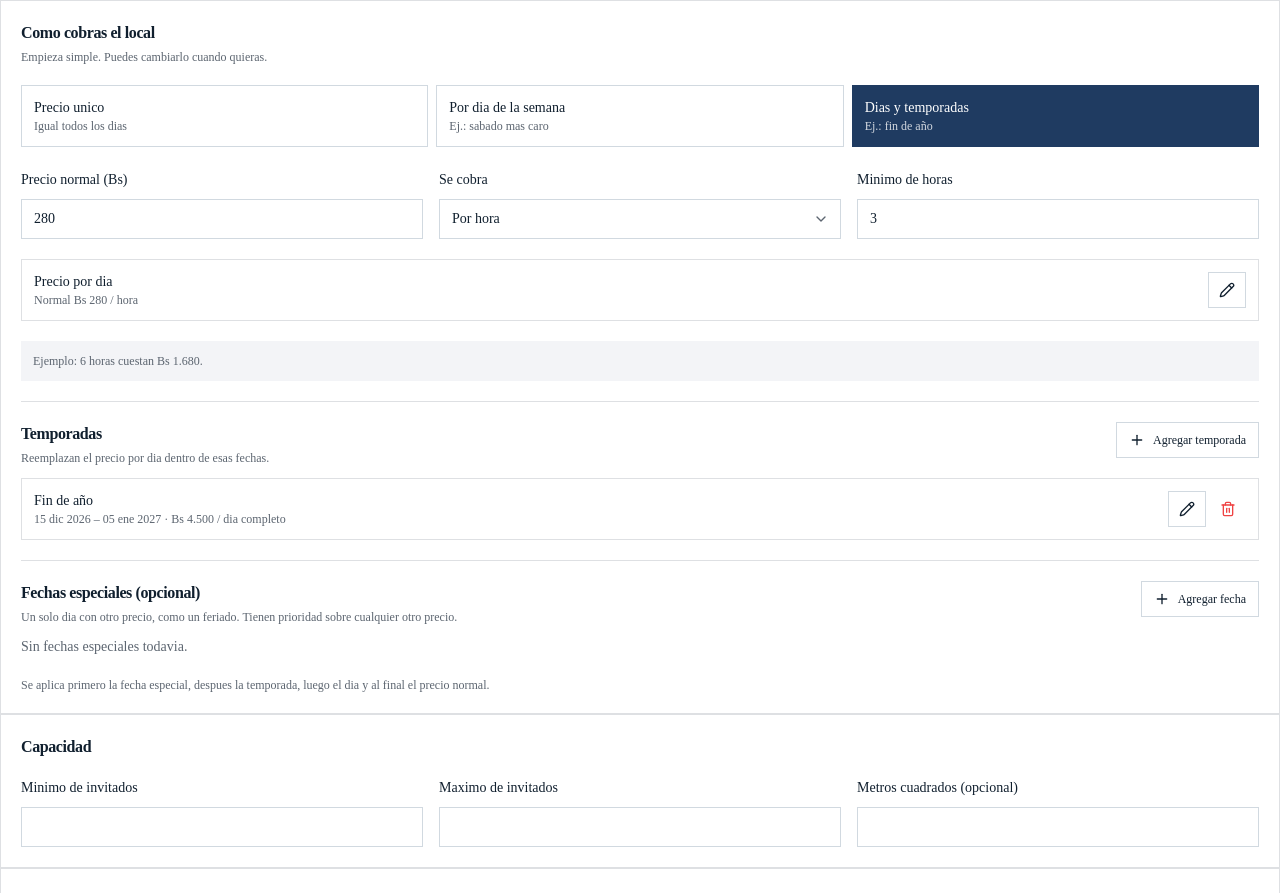
Test: VenuePricingSection › avisa lo que se quitaria al cambiar de modo, sin perderlo si vuelve
Click the radio button labelled "Precio unico Igual todos los dias": (69, 108) 21,85 -> 428,147
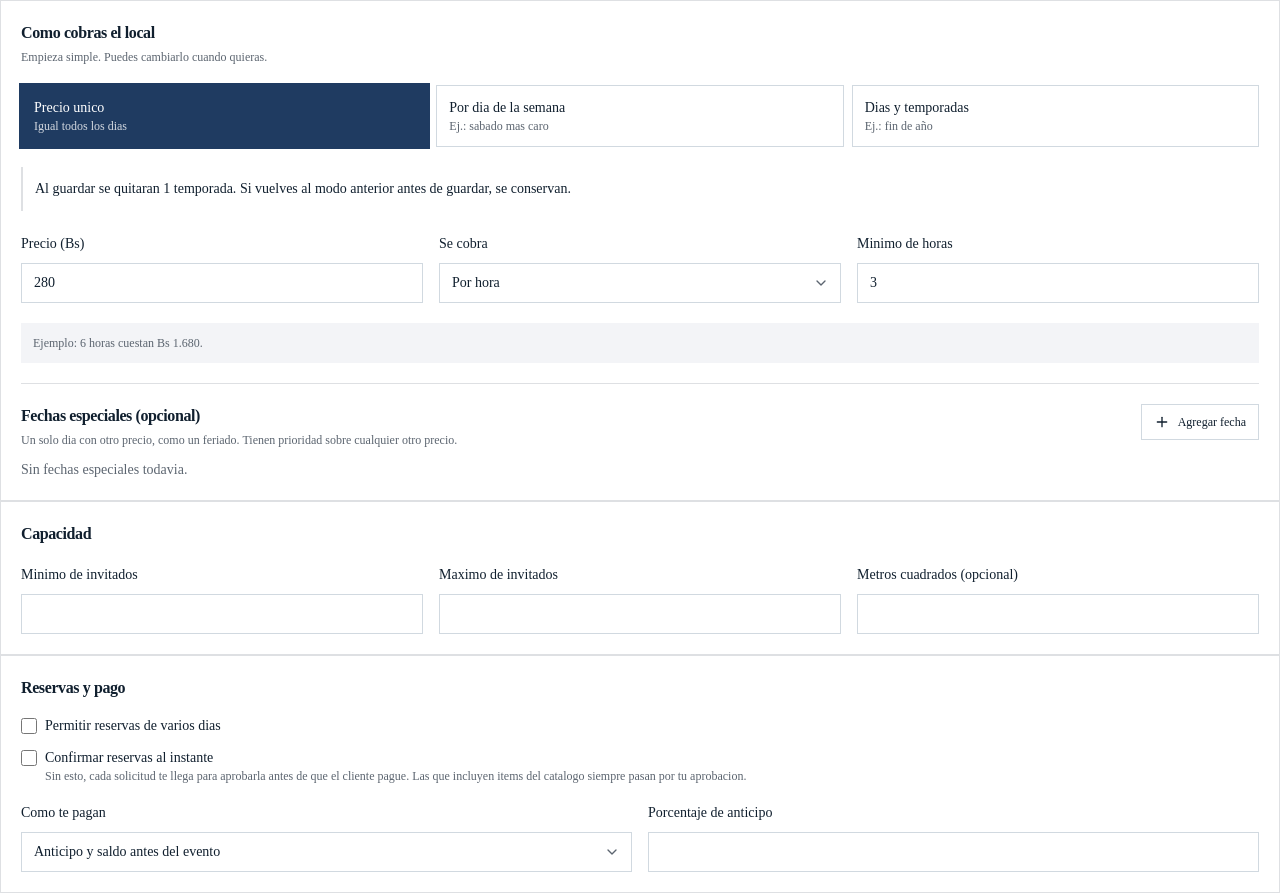
Result: the text "Al guardar se quitaran 1 temporada" is shown at 35,181 -> 236,196
Click the radio button labelled "Dias y temporadas Ej.: fin de año": (917, 108) 852,85 -> 1259,147
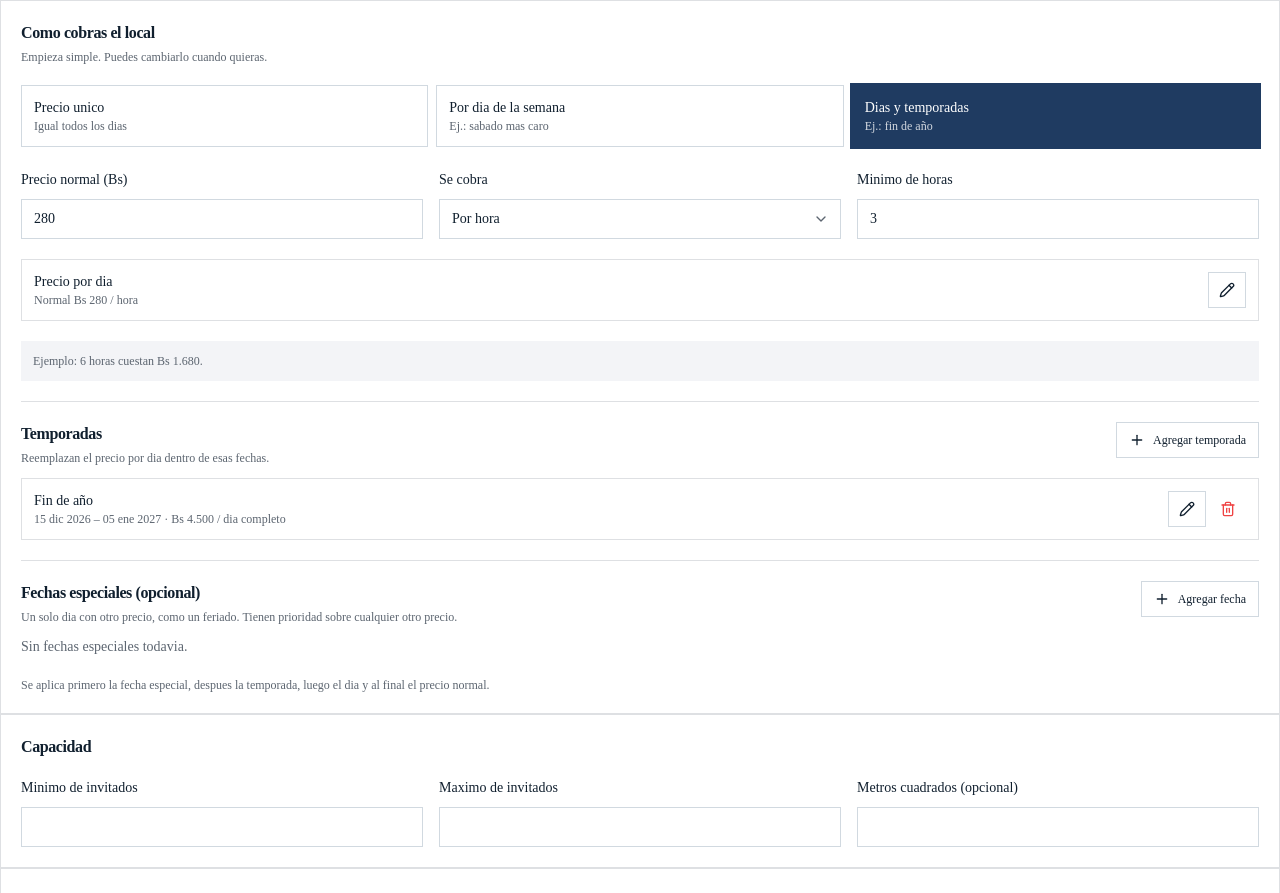
Result: the text "Al guardar se quitaran" is gone
Result: the text "Fin de año" is shown at 34,493 -> 93,508
